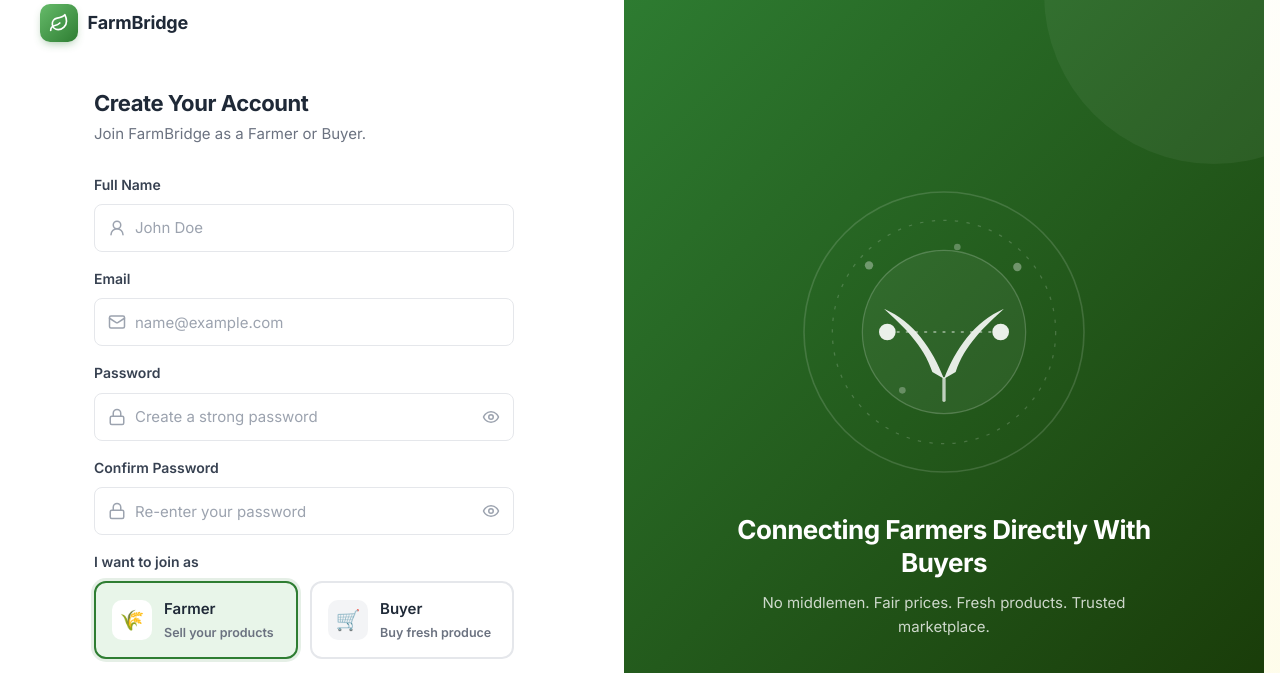
Scenario: RegisterPage — validation › shows the duplicate-email error from the backend (Test 8)
The width and height of the screenshot is (1280, 673).
Type "Test User" into the field labelled "Full Name".
click(304, 228); type("Test User")  # box [94,204,514,252]
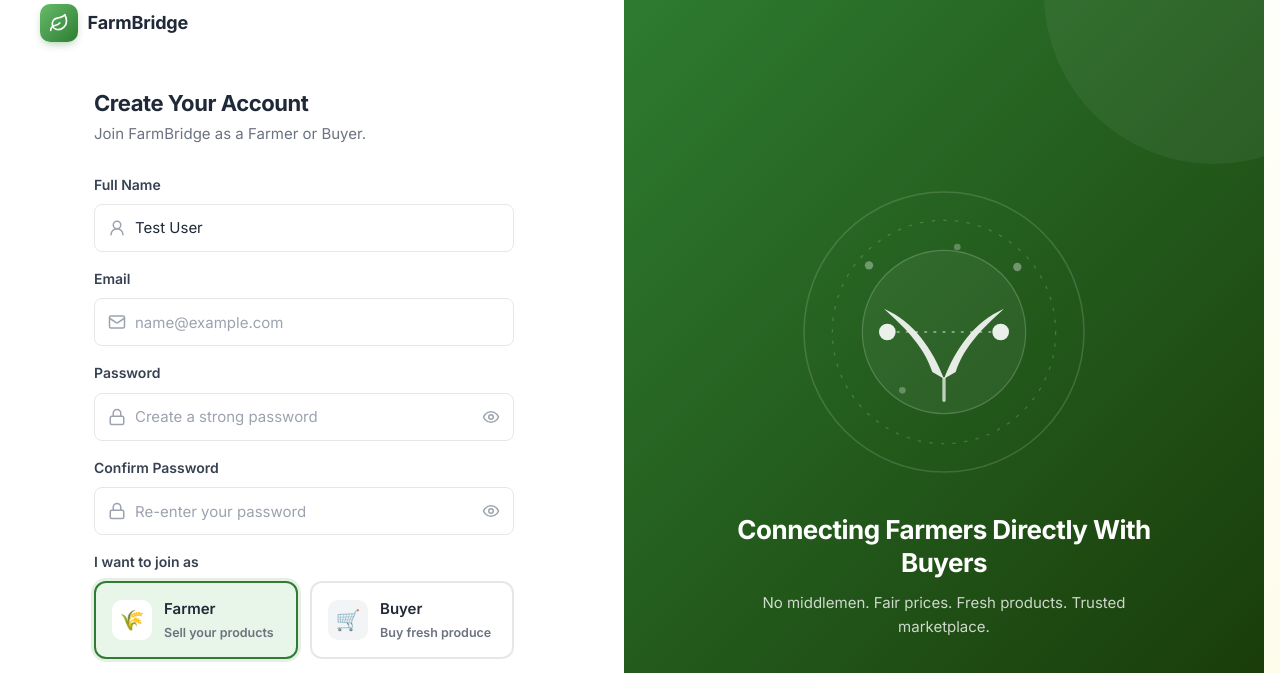
Type "a@b.com" into the field labelled "Email".
click(304, 322); type("a@b.com")  # box [94,298,514,346]
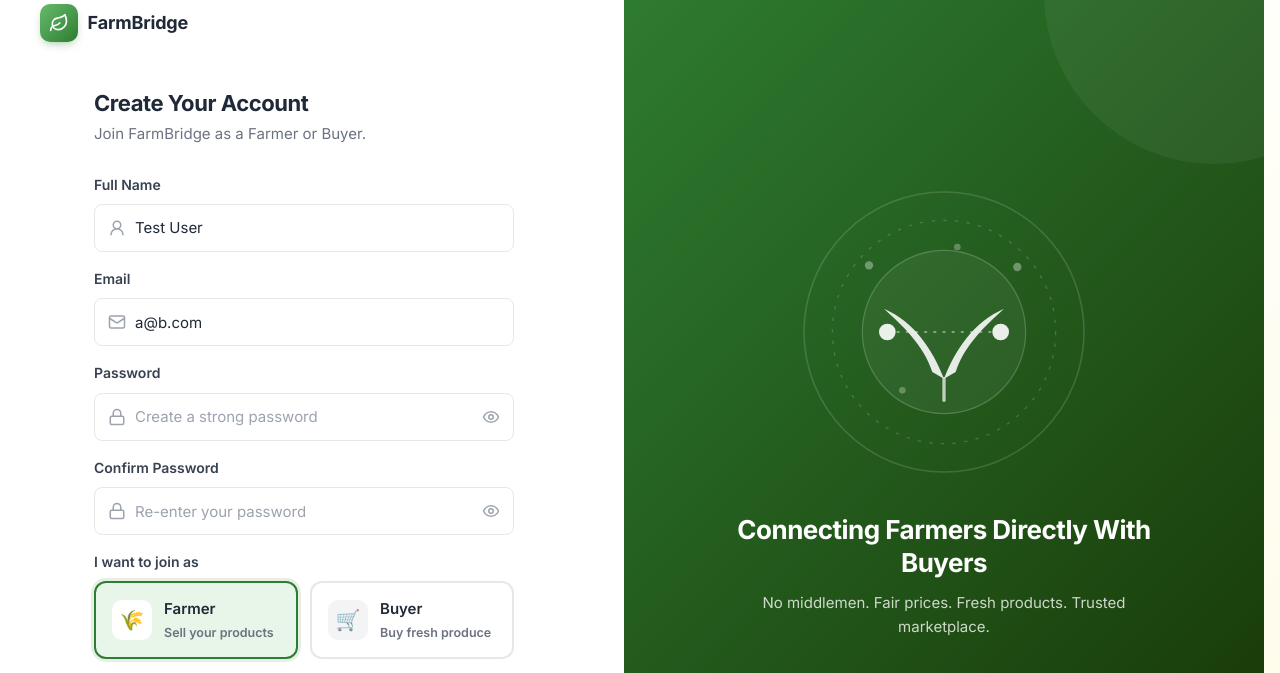
Type "FarmBridge@123" into the password field labelled "Password".
click(304, 417); type("FarmBridge@123")  # box [94,393,514,441]
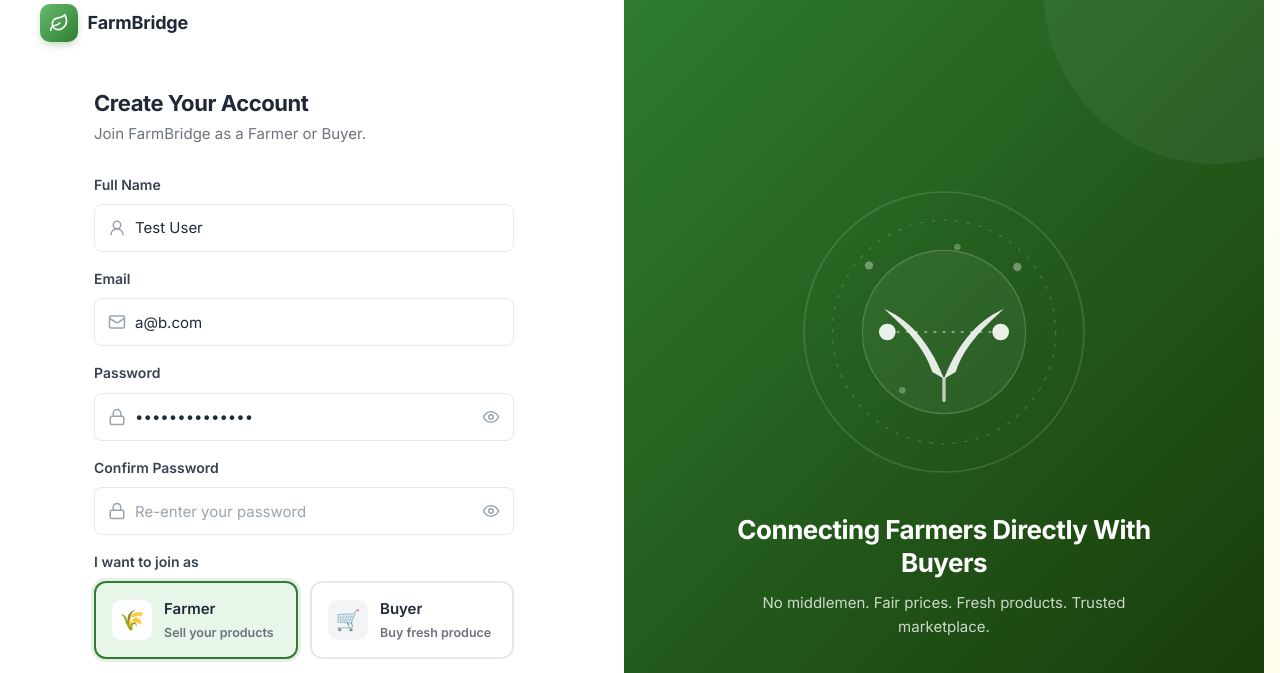
Type "FarmBridge@123" into the password field labelled "Confirm Password".
click(304, 511); type("FarmBridge@123")  # box [94,487,514,535]
(page scrolled)
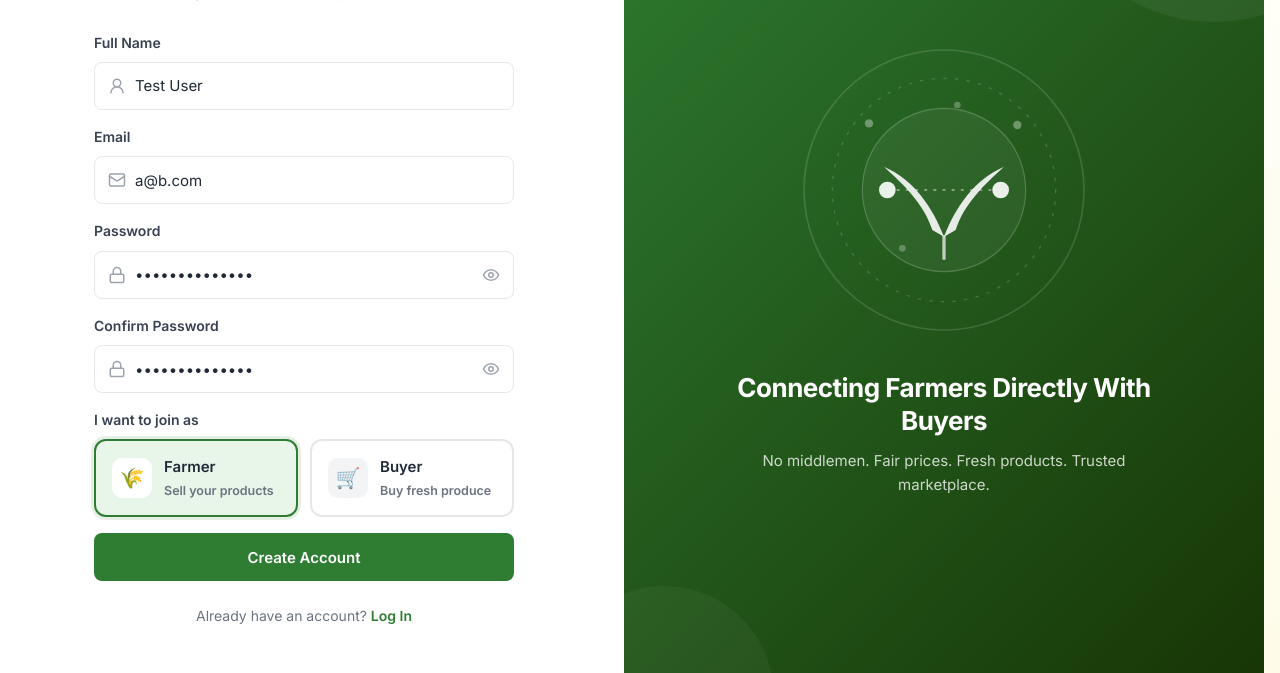
Click the button "Create Account".
click(304, 558)  # box [94,534,514,582]
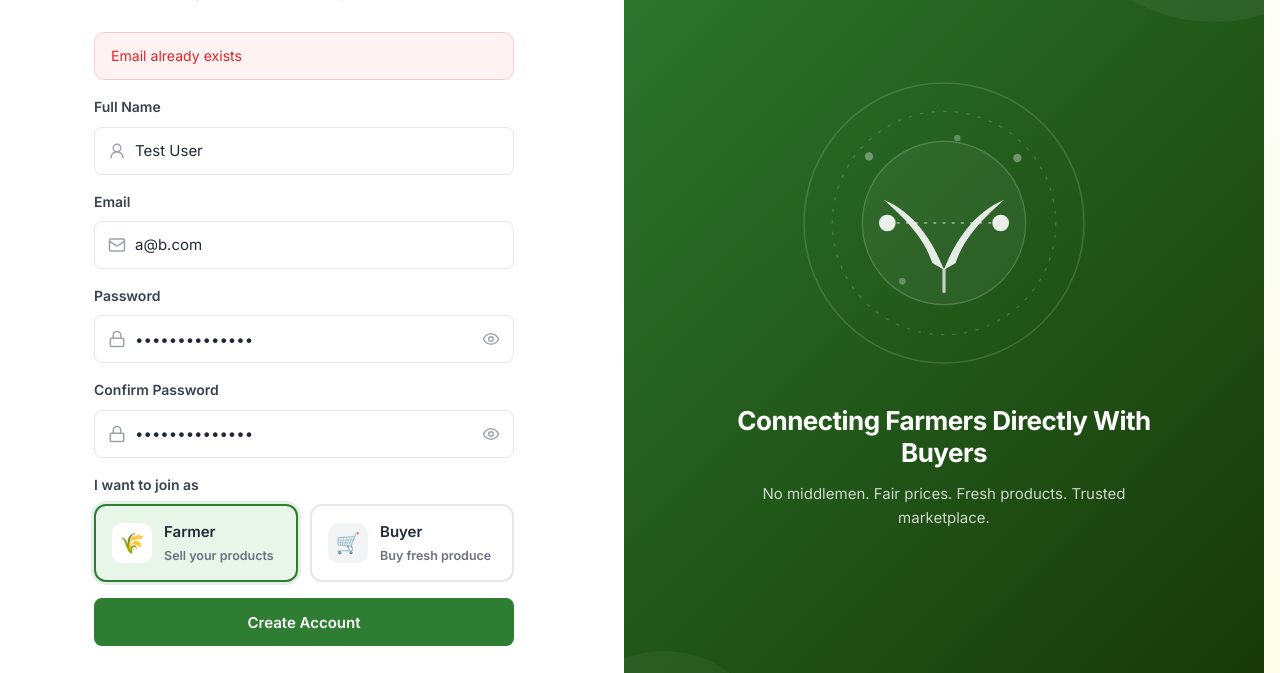
expect the text "Email already exists" is shown: met, box [94,32,514,80]
